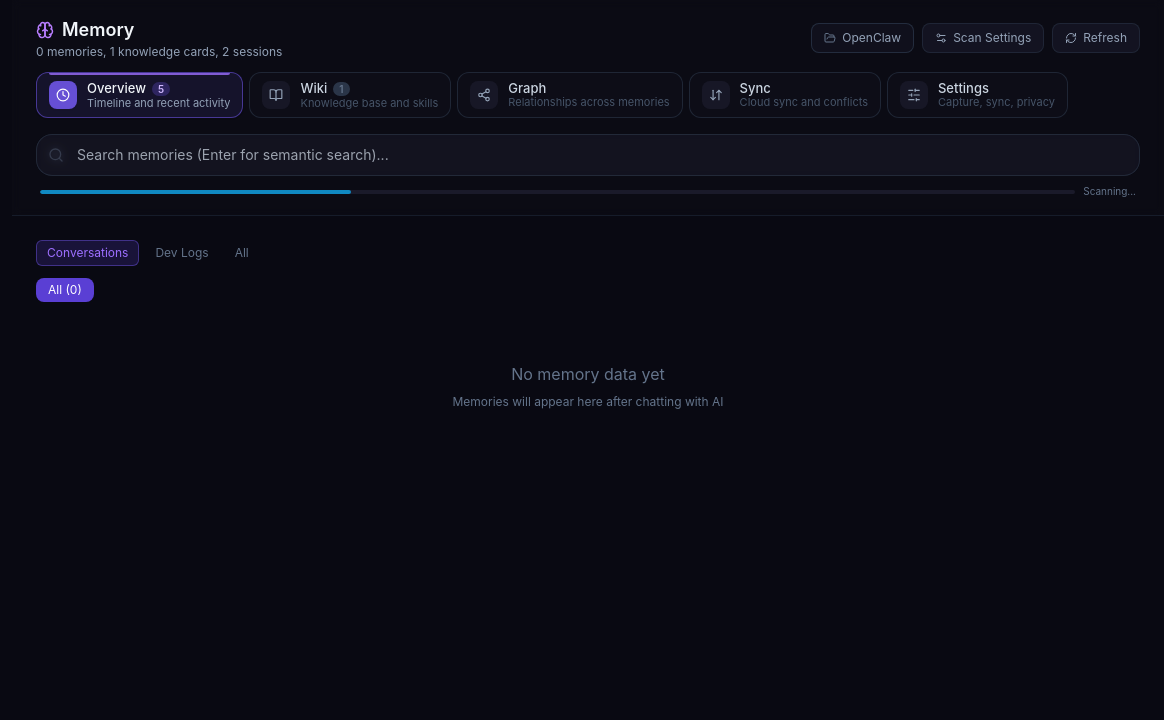
Test: Memory Page — Wiki Overview shows cards › shows cards in Wiki overview when context returns data
The width and height of the screenshot is (1164, 720).
Switch to Wiki tab
Click the text "Wiki": {"x": 314, "y": 88} [300,82,327,95]
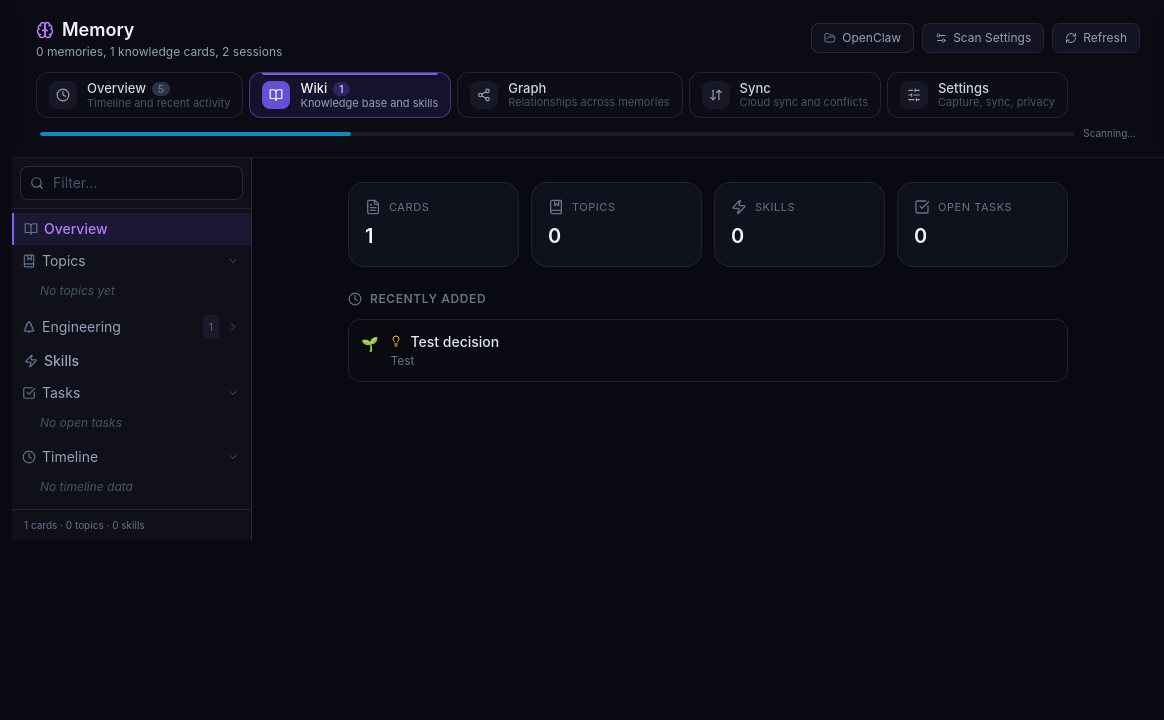
Expected: the text "Test decision" is shown, [410,332,499,351]
